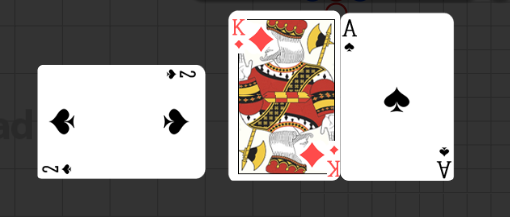2S: (41, 162, 74, 175)
AS: (342, 18, 359, 55)
KD: (230, 17, 245, 51)
